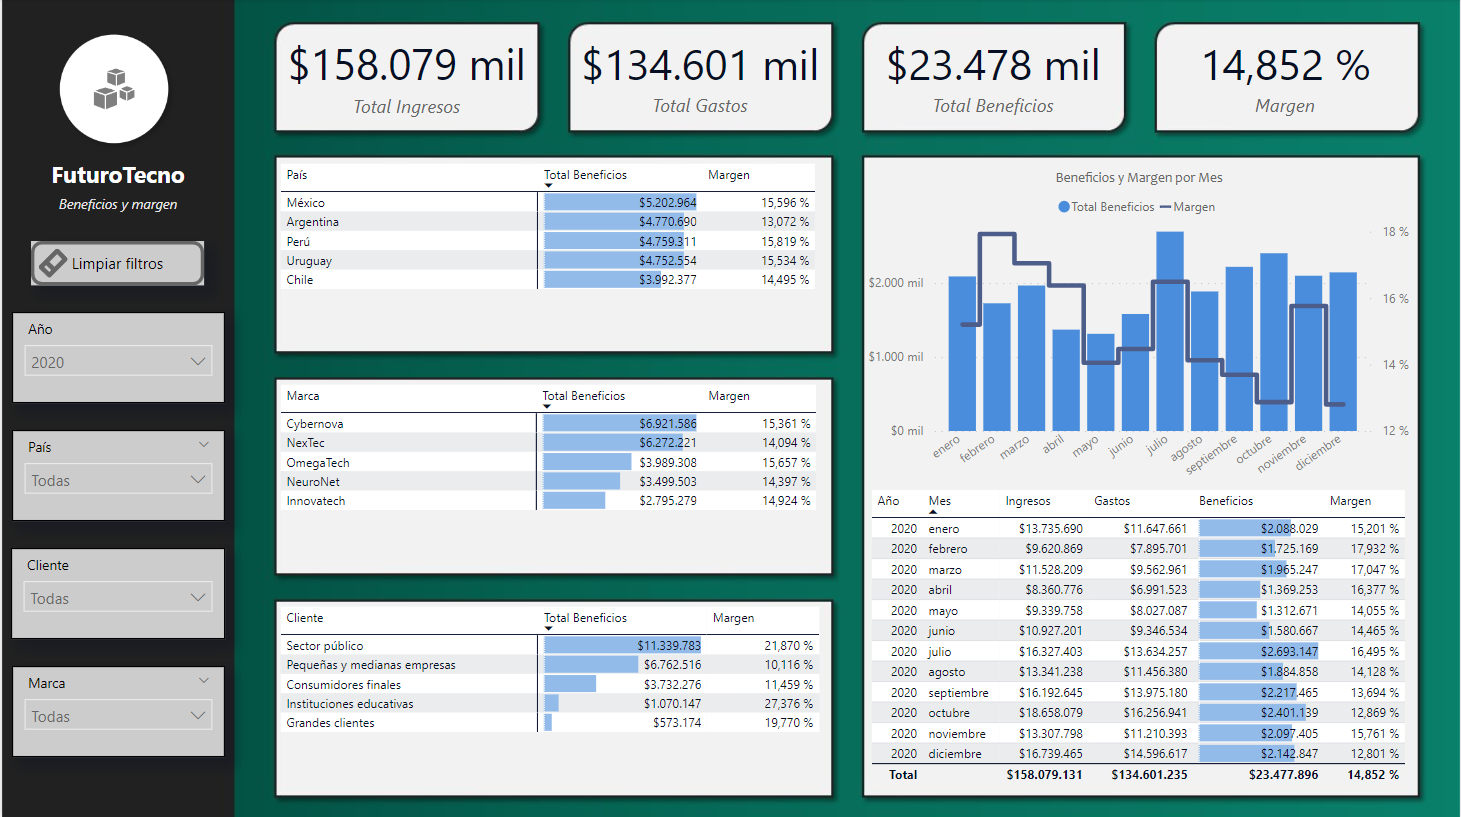

The dashboard page shown, as its layout file describes it:
{"tool":"powerbi","page":{"name":"Página 1","canvas":[1280,720],"ordinal":0},"visuals":[{"type":"card","fields":{"Values":["Registros_2020-2022.Total Ingresos"]},"box":[239.7,17.6,230.9,98],"z":0},{"type":"card","fields":{"Values":["Registros_2020-2022.Total Gastos"]},"box":[497.9,17.6,230,98.3],"z":1000},{"type":"card","fields":{"Values":["Registros_2020-2022.Total Beneficios"]},"box":[755.1,17.6,230,98.3],"z":2000},{"type":"card","fields":{"Values":["Registros_2020-2022.Margen2"]},"box":[1011.5,17.6,230,98.3],"z":3000},{"type":"tableEx","fields":{"Values":["Registros_2020-2022.Fecha.Variación.Jerarquía de fechas.Año","Registros_2020-2022.Fecha.Variación.Jerarquía de fechas.Mes","Registros_2020-2022.Total Ingresos","Registros_2020-2022.Total Gastos","Registros_2020-2022.Total Beneficios","Registros_2020-2022.Margen"]},"box":[757.8,425.9,480.3,276.6],"z":4000},{"type":"lineStackedColumnComboChart","title":"Beneficios y Margen por Mes","fields":{"Category":["Registros_2020-2022.Fecha.Variación.Jerarquía de fechas.Mes"],"Y2":["Registros_2020-2022.Margen"],"Y":["Registros_2020-2022.Total Beneficios"]},"box":[755.1,149.3,486.4,281.9],"z":5000},{"type":"slicer","fields":{"Values":["Registros_2020-2022.Fecha.Variación.Jerarquía de fechas.Año"]},"box":[8.8,274.8,187,79.9],"z":6000},{"type":"slicer","fields":{"Values":["Registros_2020-2022.País"]},"box":[8.8,378.4,187,79.9],"z":7000},{"type":"slicer","fields":{"Values":["Registros_2020-2022.Marca"]},"box":[8.8,585.7,187,79.9],"z":8000},{"type":"slicer","fields":{"Values":["Registros_2020-2022.Cliente"]},"box":[7.9,482,187.9,79.9],"z":9000},{"type":"pivotTable","fields":{"Rows":["Registros_2020-2022.Marca"],"Values":["Registros_2020-2022.Total Beneficios","Registros_2020-2022.Margen"]},"box":[239.7,333.7,488.2,170.3],"z":10000},{"type":"pivotTable","fields":{"Rows":["Registros_2020-2022.Cliente"],"Values":["Registros_2020-2022.Total Beneficios","Registros_2020-2022.Margen"]},"box":[239.7,528.6,488.2,173.9],"z":11000},{"type":"pivotTable","fields":{"Rows":["Registros_2020-2022.País"],"Values":["Registros_2020-2022.Total Beneficios","Registros_2020-2022.Margen"]},"box":[239.7,139.6,488.2,126.4],"z":12000},{"type":"actionButton","box":[25.5,212.5,151.9,38.6],"z":12001},{"type":"image","box":[41.3,23.7,120.3,115.9],"z":12002},{"type":"textbox","title":"FuturoTecno","box":[29,139.6,145.8,49.2],"z":12003}]}

Visuals, with their boxes in screenshot pixels (x1, y1, x2, y2), scaled from the page's 1280x720 canvas onto the 1461x817 screenshot:
card - Registros_2020-2022.Total Ingresos: 274, 20, 537, 131
card - Registros_2020-2022.Total Gastos: 568, 20, 831, 132
card - Registros_2020-2022.Total Beneficios: 862, 20, 1124, 132
card - Registros_2020-2022.Margen2: 1155, 20, 1417, 132
tableEx - Registros_2020-2022.Fecha.Variación.Jerarquía de fechas.Año x Registros_2020-2022.Fecha.Variación.Jerarquía de fechas.Mes: 865, 483, 1413, 797
"Beneficios y Margen por Mes" lineStackedColumnComboChart: 862, 169, 1417, 489
slicer - Registros_2020-2022.Fecha.Variación.Jerarquía de fechas.Año: 10, 312, 223, 402
slicer - Registros_2020-2022.País: 10, 429, 223, 520
slicer - Registros_2020-2022.Marca: 10, 665, 223, 755
slicer - Registros_2020-2022.Cliente: 9, 547, 223, 638
pivotTable - Registros_2020-2022.Marca x Registros_2020-2022.Total Beneficios: 274, 379, 831, 572
pivotTable - Registros_2020-2022.Cliente x Registros_2020-2022.Total Beneficios: 274, 600, 831, 797
pivotTable - Registros_2020-2022.País x Registros_2020-2022.Total Beneficios: 274, 158, 831, 302
actionButton: 29, 241, 202, 285
image: 47, 27, 184, 158
"FuturoTecno" textbox: 33, 158, 200, 214
